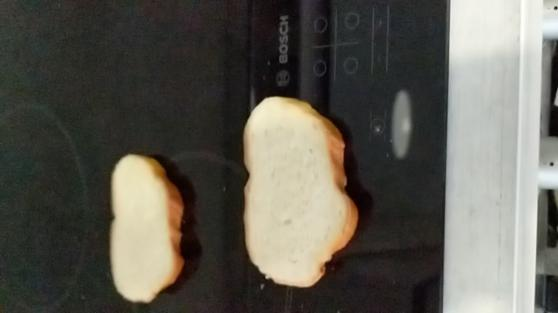white_bread: (236, 91, 365, 288), (106, 147, 192, 304)
